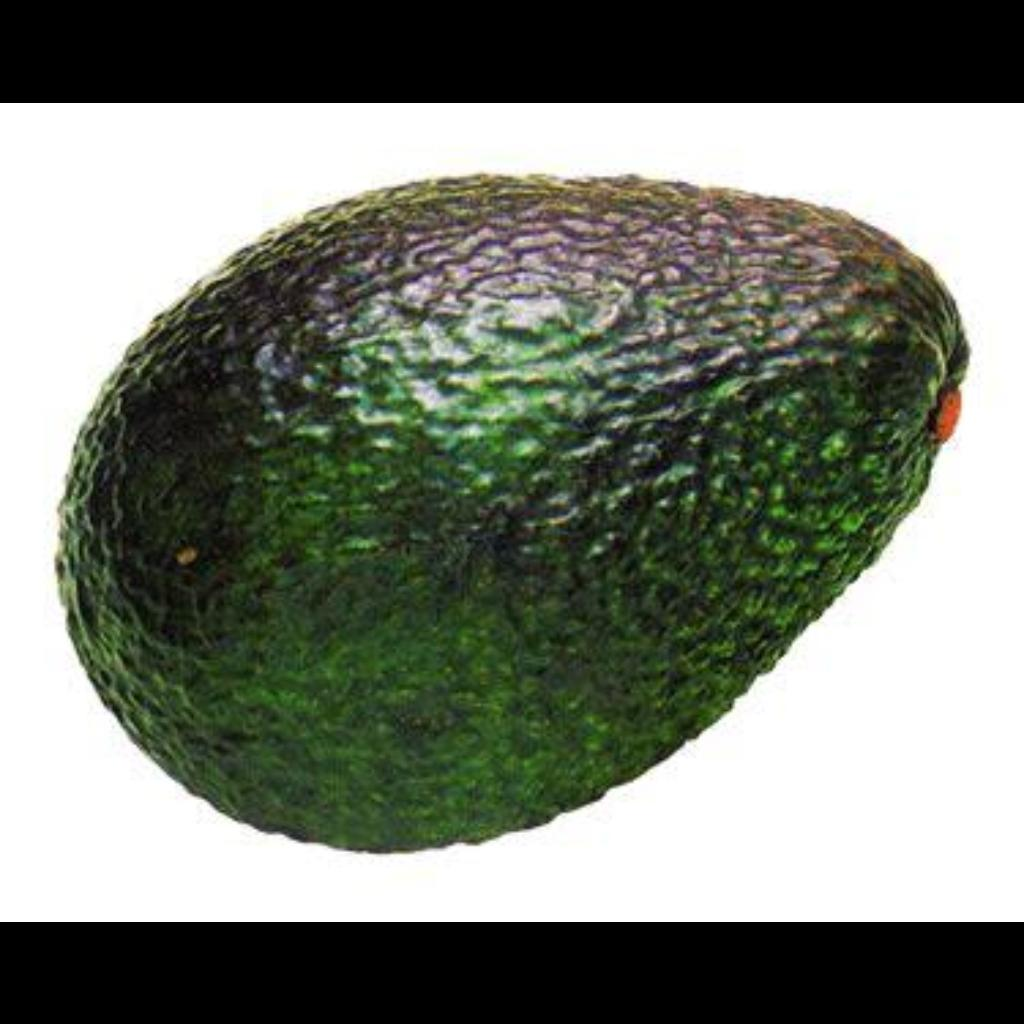antracnosis_fruto: (49, 158, 964, 827)
